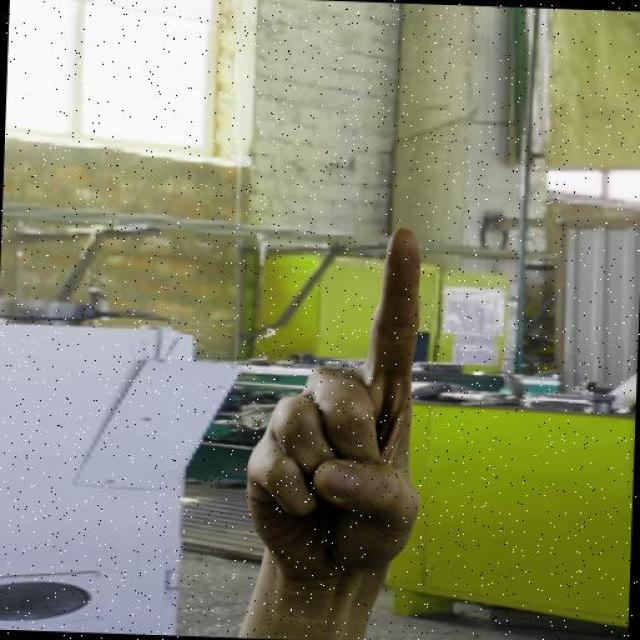Z: (237, 219, 437, 590)
